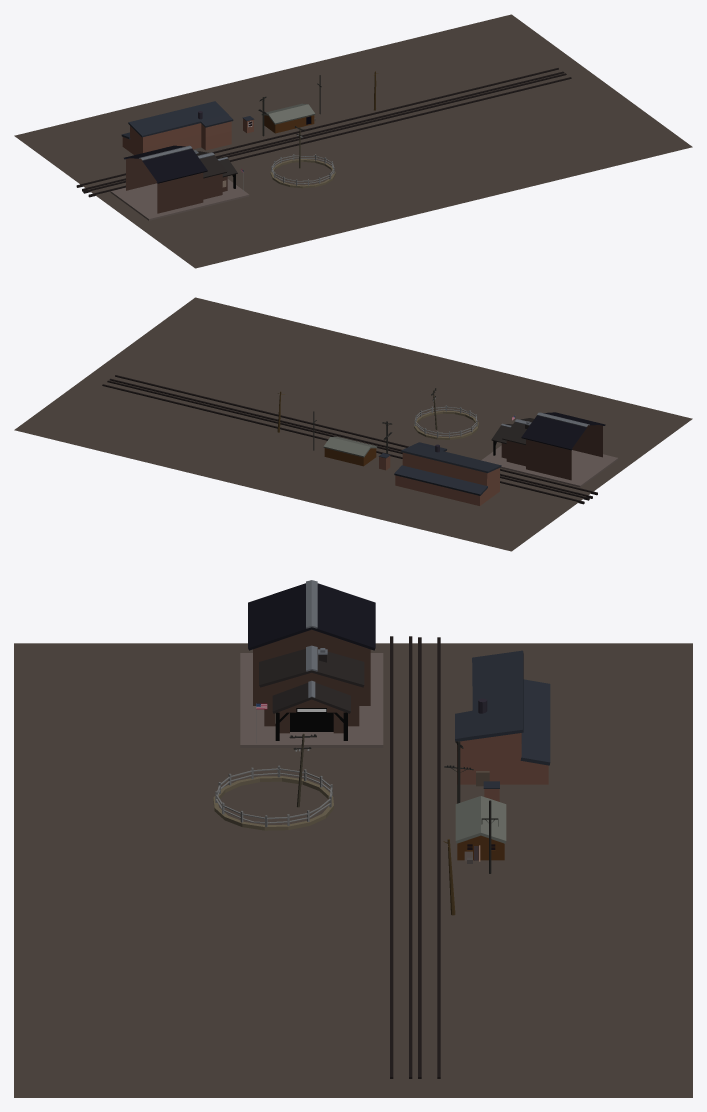
Rendered from train_station_scene.glb.
The picture shows the model from 3 angles, top to bottom: view 1: azimuth 30°, elevation 25°; view 2: azimuth 150°, elevation 25°; view 3: azimuth 270°, elevation 25°; orthographic projection. The views are drawn at different scales.
Parts seen in each view (by area): view 1: floor; view 2: floor; view 3: floor.
Part boxes in pixels (bbox=[...]): floor: bbox=[14, 14, 692, 268]; floor: bbox=[14, 297, 692, 551]; floor: bbox=[14, 580, 692, 1097].
Bounding box in the file's own units: 135 × 13.33 × 83.99.
31 materials, 1 textured.
